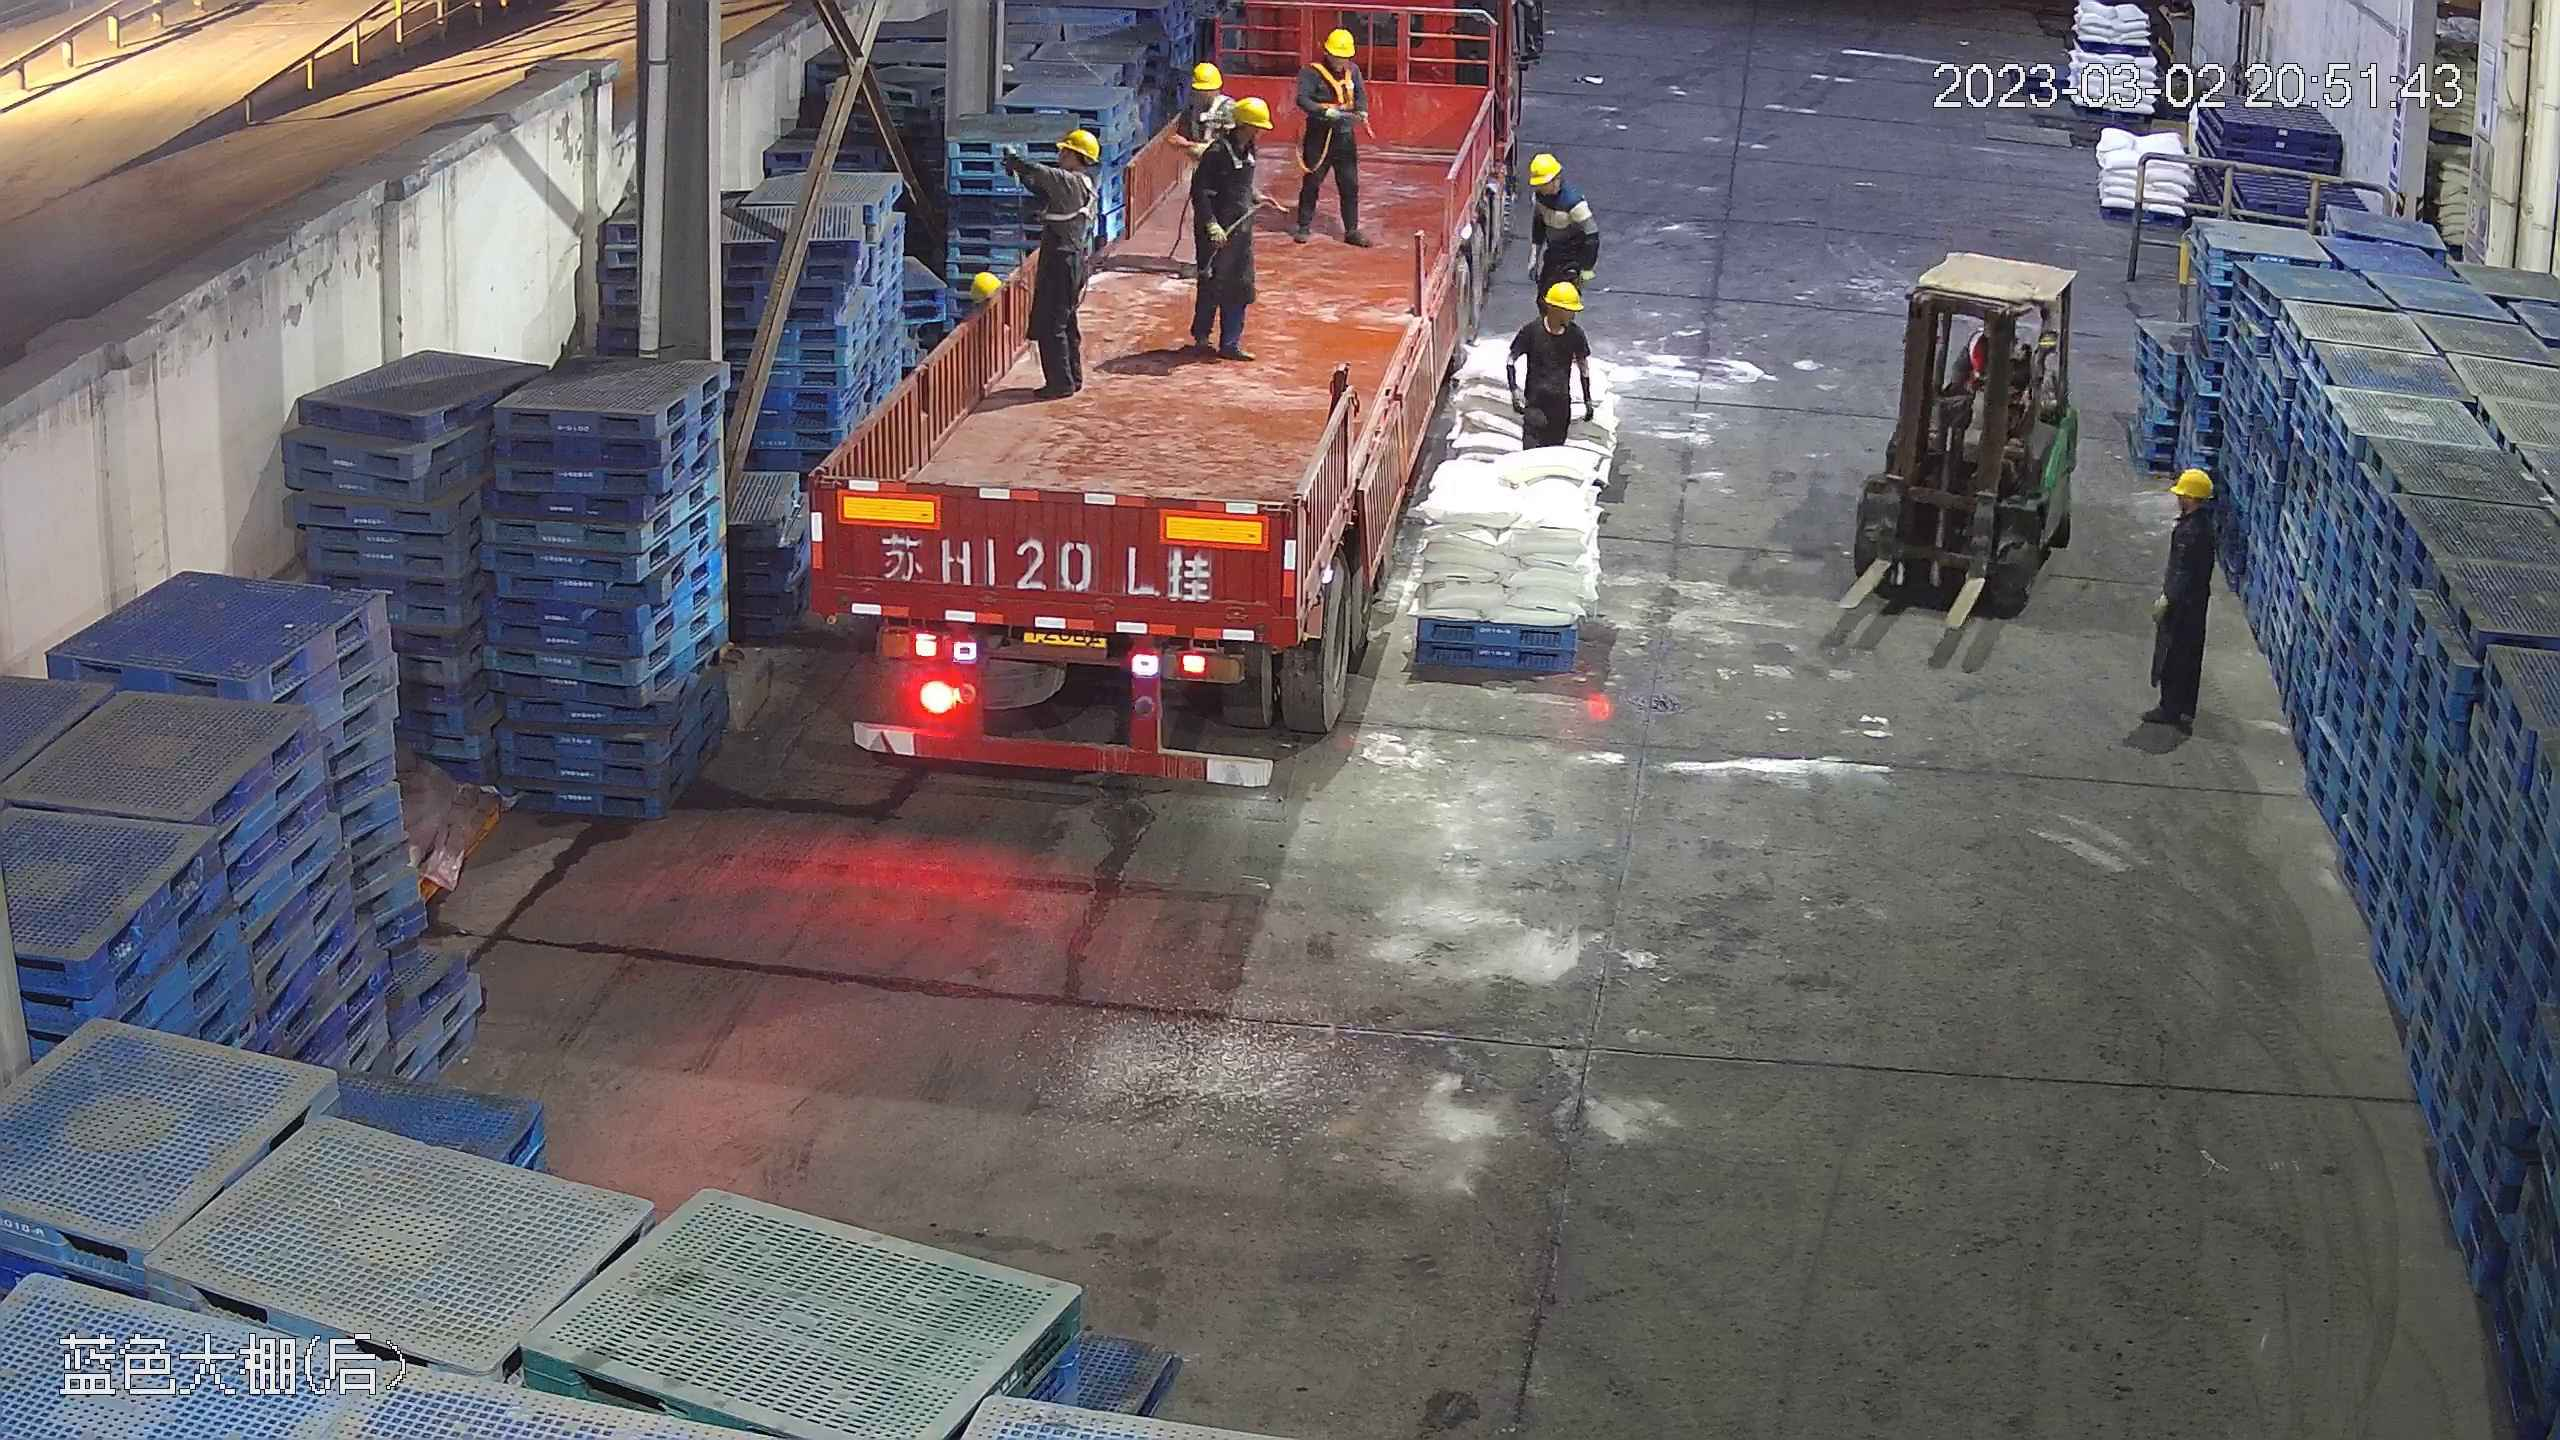belt: (1038, 167, 1099, 234), (1192, 131, 1241, 192), (1308, 59, 1360, 114), (1187, 94, 1232, 145)
head: (1029, 128, 1105, 211), (1192, 96, 1266, 181), (1517, 279, 1591, 355), (2162, 466, 2221, 558), (1300, 24, 1366, 95), (1178, 59, 1234, 143), (1526, 155, 1592, 225)
helmet: (1054, 126, 1102, 163), (2168, 466, 2213, 499), (1231, 98, 1273, 132), (1541, 281, 1582, 309), (966, 269, 999, 301), (1529, 152, 1562, 182), (1187, 59, 1222, 88), (1320, 25, 1356, 53)
people: (2128, 464, 2226, 741), (1017, 125, 1107, 400), (1185, 91, 1268, 356), (1295, 21, 1376, 245), (1505, 275, 1594, 451), (1521, 151, 1596, 310)
truck: (817, 36, 1494, 784)
